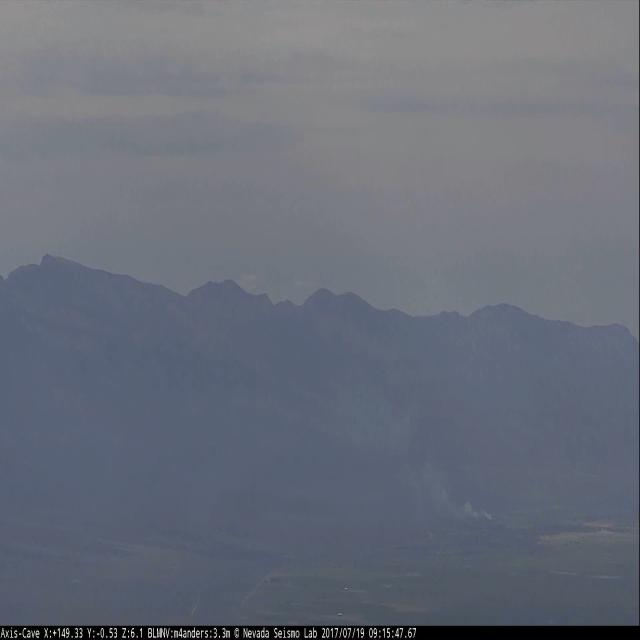smoke: (351, 384, 492, 519)
